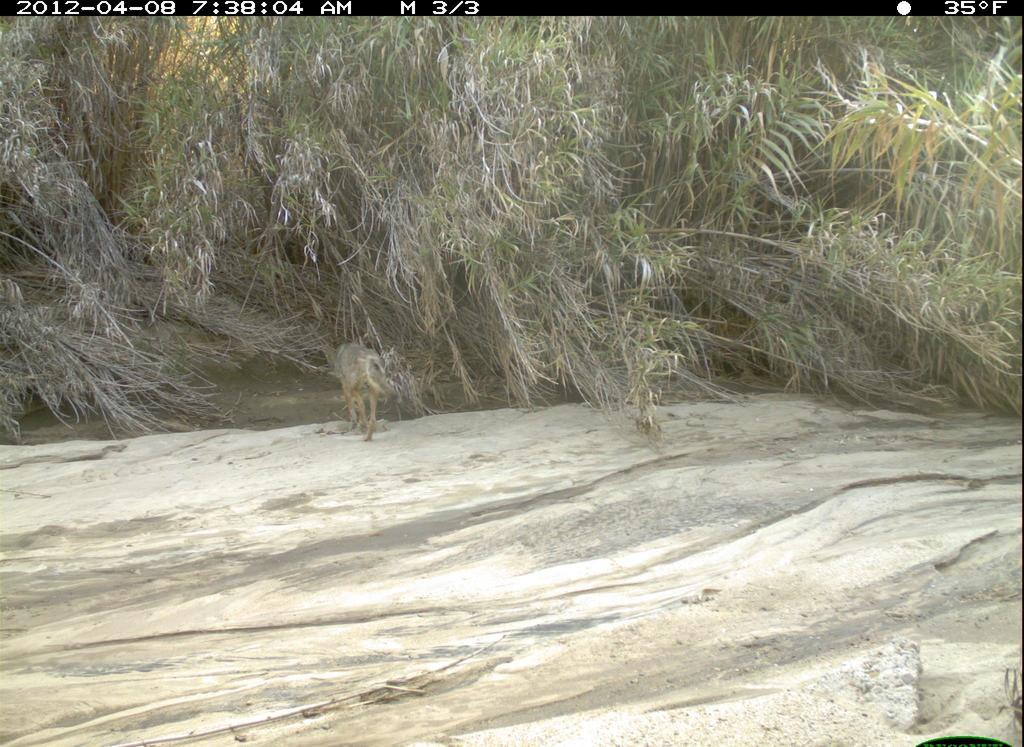coyote: (312, 326, 409, 450)
